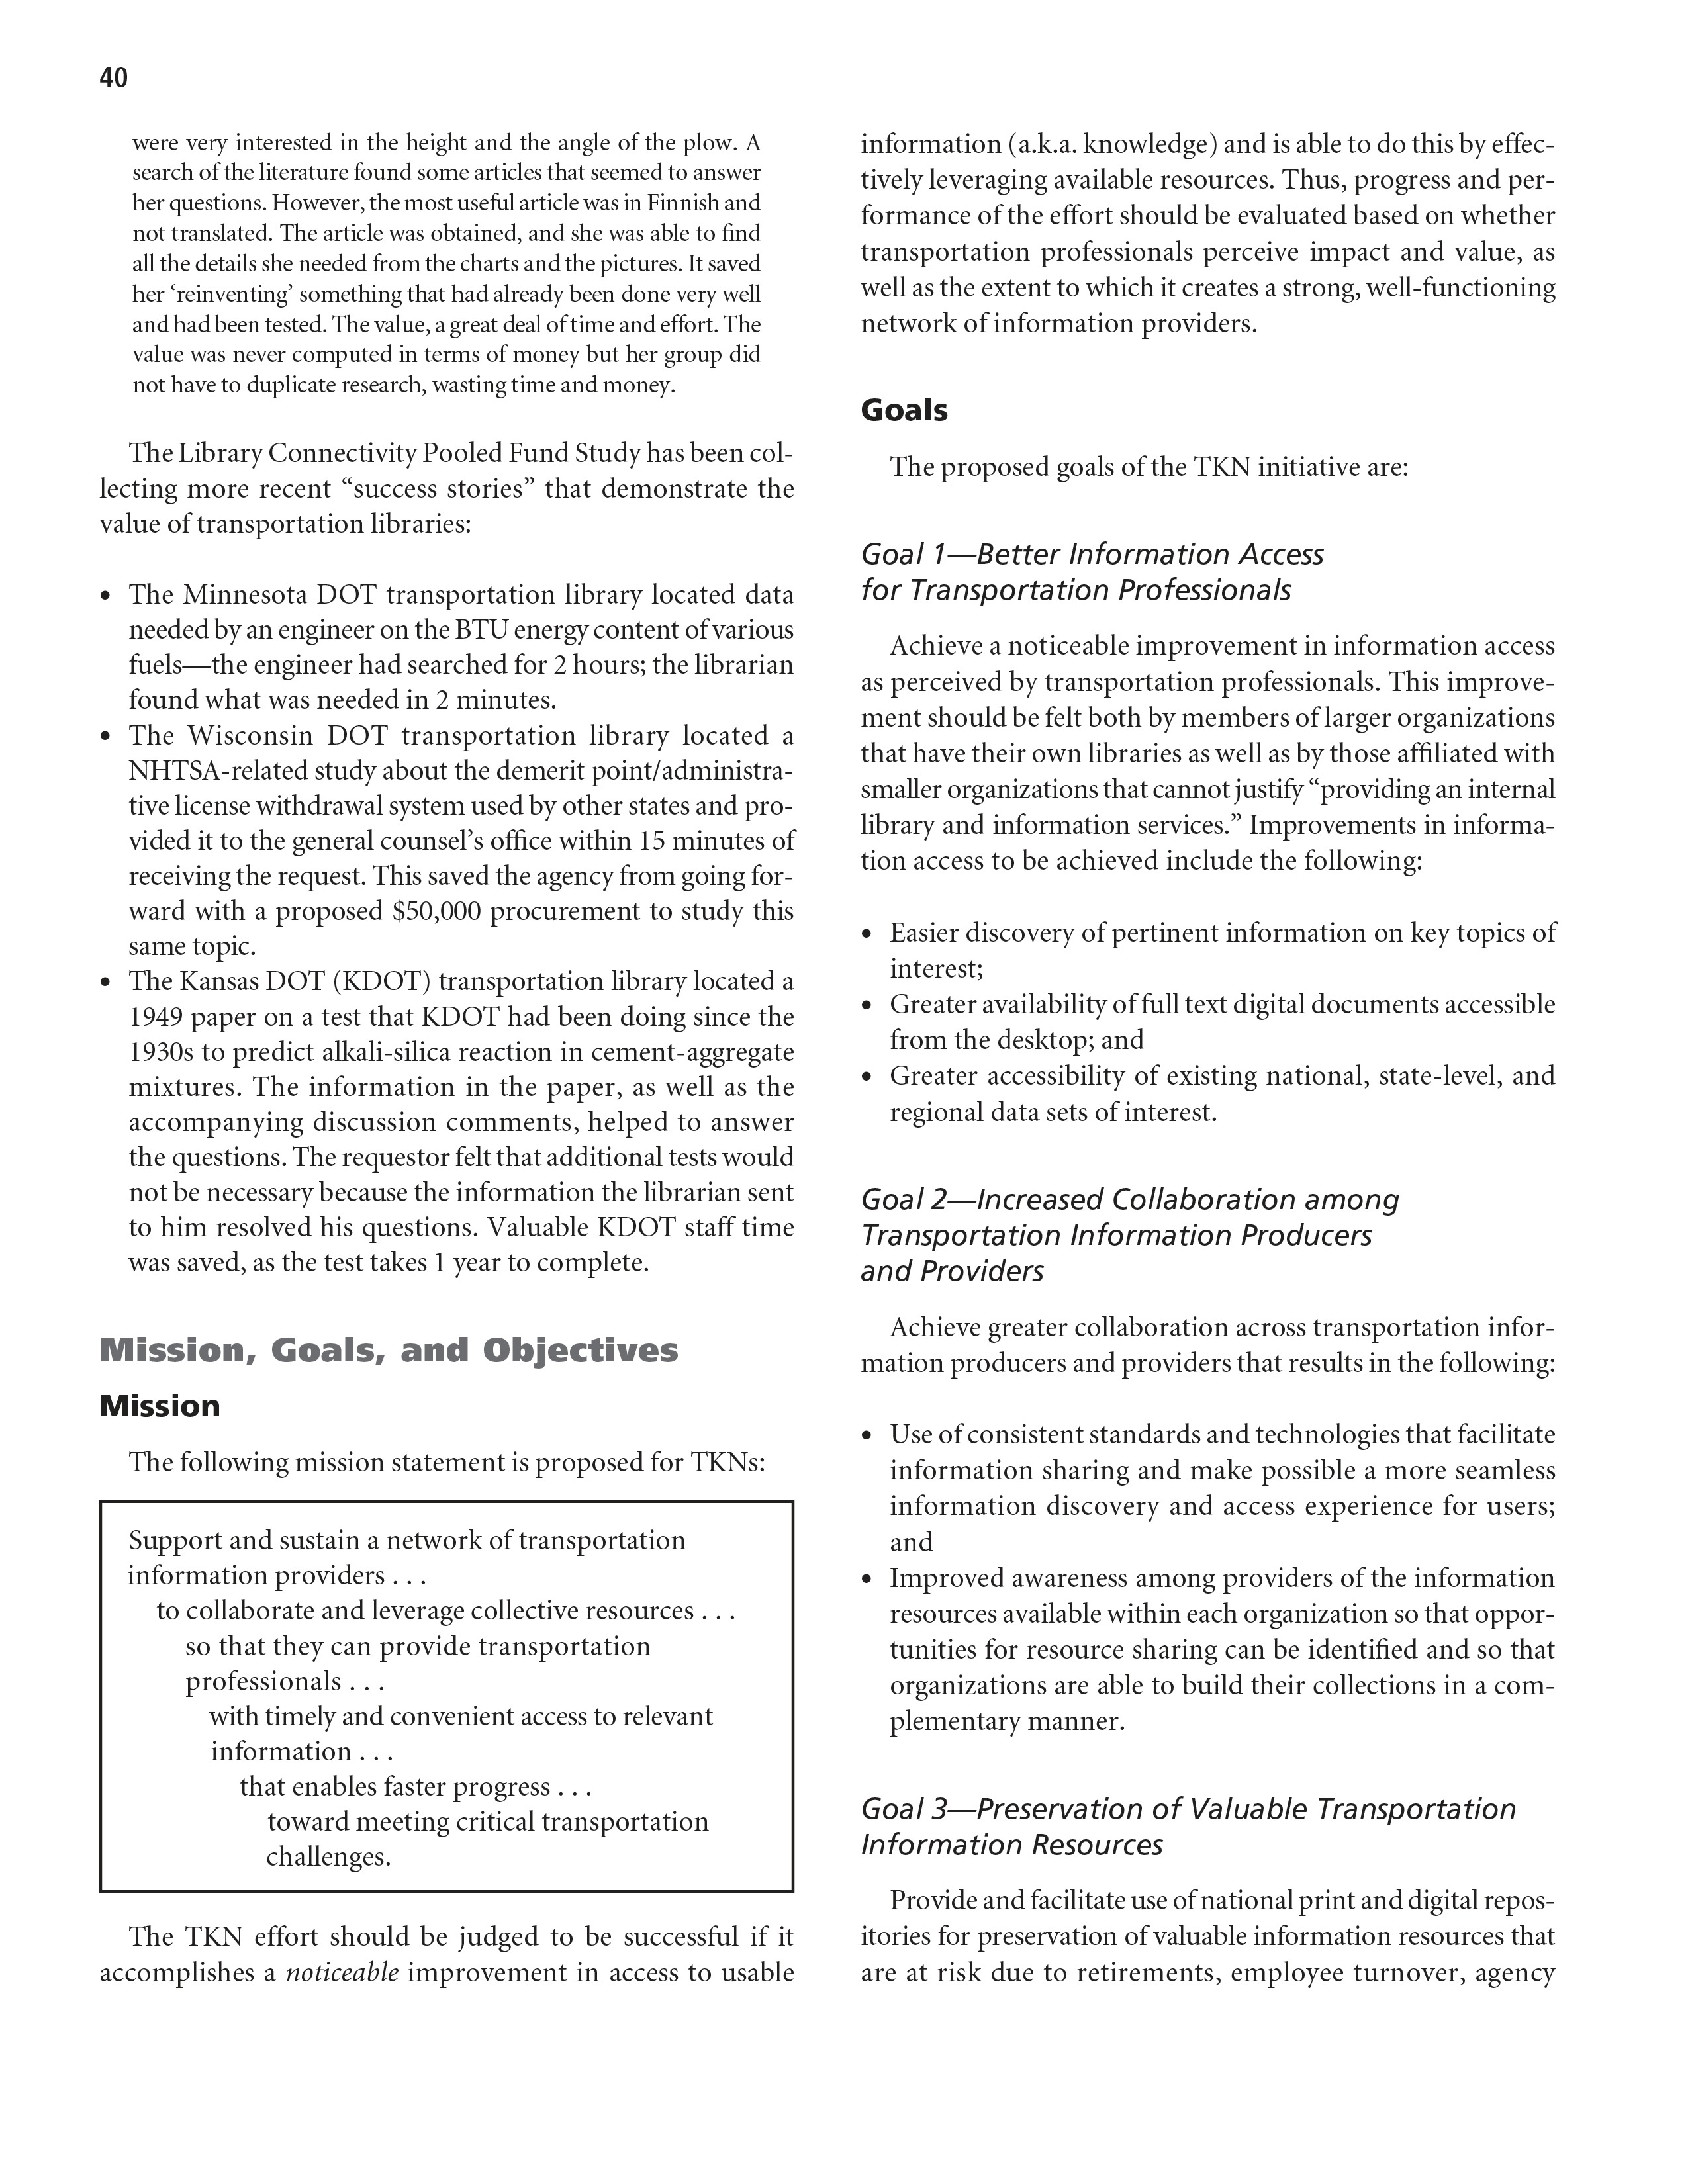list: (73, 565, 777, 1296), (849, 1395, 1560, 1764), (849, 899, 1560, 1140)
section: (853, 1170, 1422, 1305), (856, 1785, 1527, 1874), (856, 512, 1348, 619), (76, 1322, 713, 1385), (69, 1392, 241, 1431), (853, 386, 968, 443)
text: (126, 1523, 739, 1884), (129, 119, 780, 420), (846, 631, 1569, 899), (853, 99, 1560, 356), (83, 425, 796, 562), (856, 1884, 1562, 2005), (839, 1305, 1569, 1388), (80, 1913, 800, 1982), (879, 440, 1477, 489)
